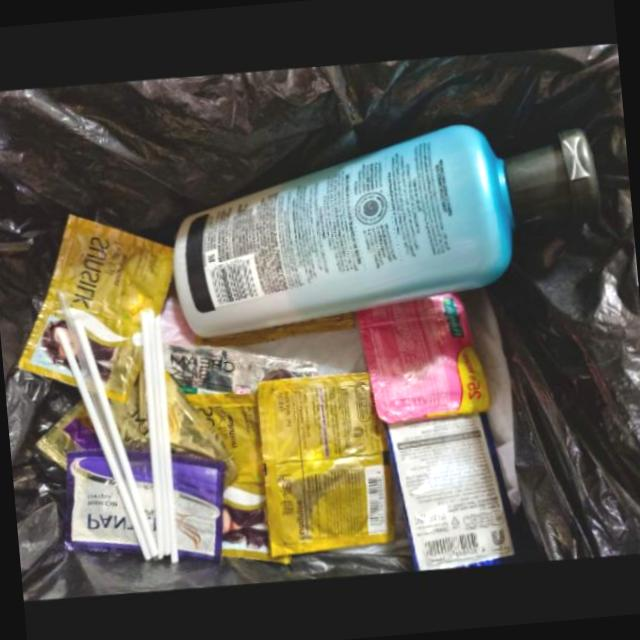chai_nhua_pet: (172, 123, 598, 337)
goi_nhua_nho: (14, 213, 171, 402), (255, 371, 391, 556), (381, 411, 521, 570), (62, 448, 222, 563), (352, 291, 488, 423), (182, 395, 287, 563), (161, 343, 317, 394)
ong_hut_nhua: (54, 326, 148, 559), (72, 319, 155, 554), (55, 287, 131, 509), (152, 314, 176, 562), (139, 308, 159, 558), (148, 306, 167, 553)
